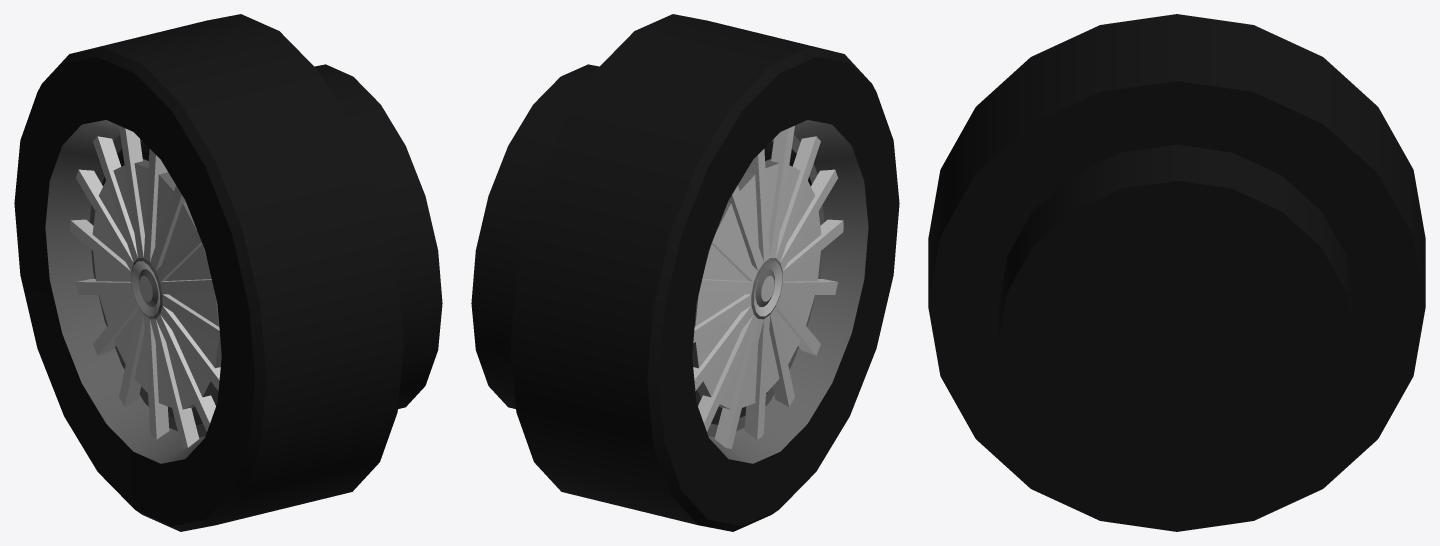
The model's file is delorean-wheel.glb.
The picture shows the model from 3 angles, left to right: view 1: azimuth 30°, elevation 25°; view 2: azimuth 150°, elevation 25°; view 3: azimuth 270°, elevation 25°; orthographic projection.
Parts seen in each view (by area): view 1: model; view 2: model; view 3: model.
Part boxes in pixels (bbox=[...]): model: bbox=[14, 14, 442, 531]; model: bbox=[471, 14, 899, 531]; model: bbox=[928, 14, 1425, 531].
Size of the model in its own units: 0.4331 by 0.848 by 0.848.
1 material, 1 textured.
